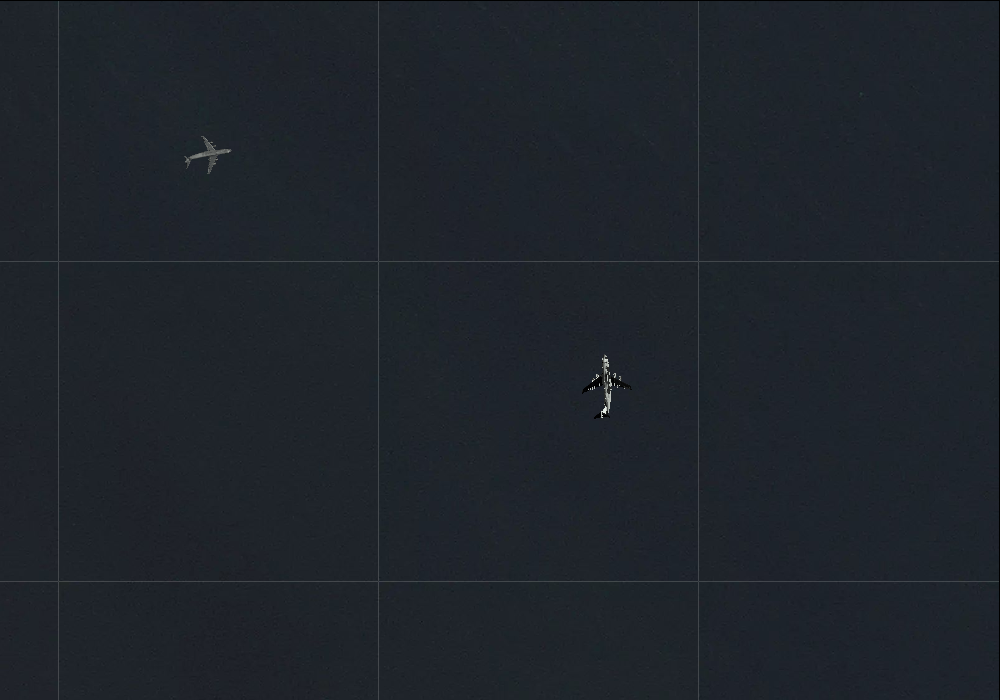plane: (572, 352, 635, 421), (179, 129, 235, 182)
